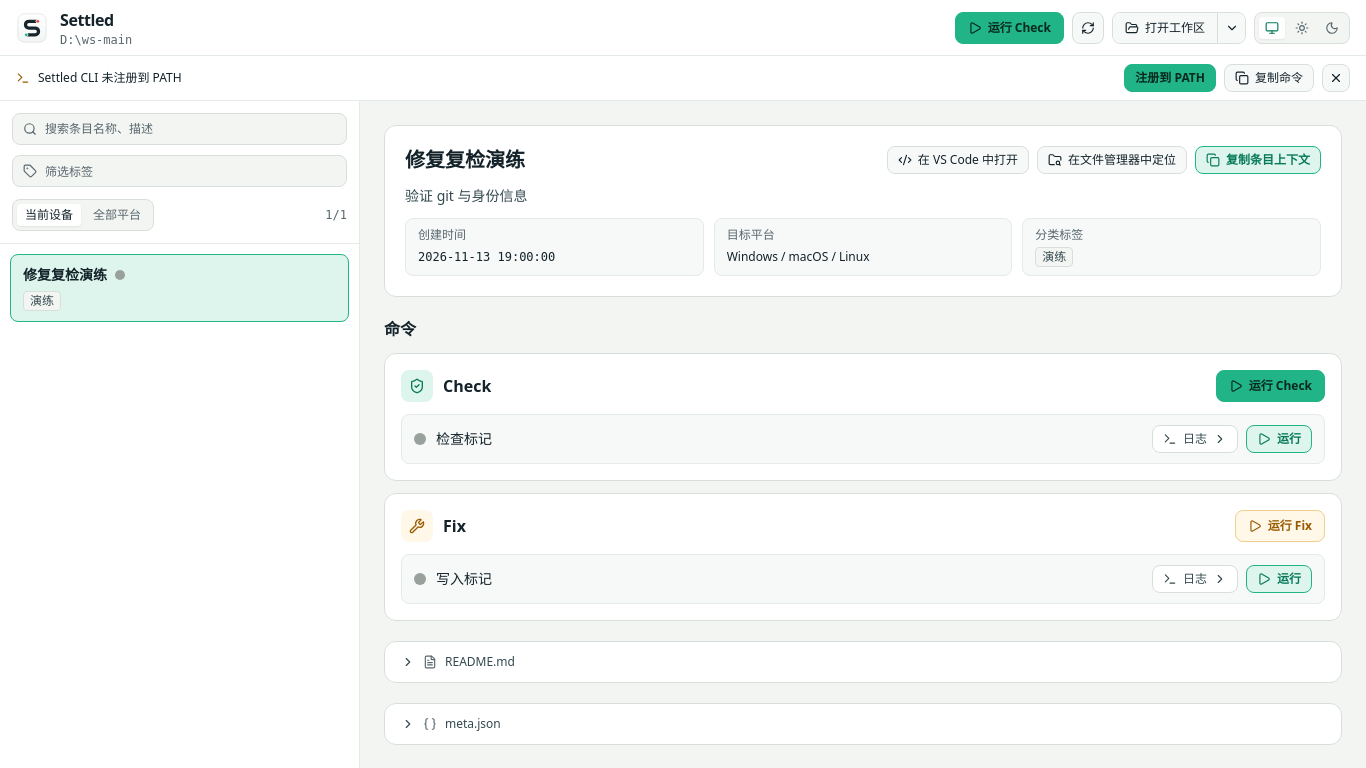
Test case: App integration › shows CLI registration banner only when needed, supports registering/copying/dismissing, and refreshes shared recent workspaces
expect the text "Settled CLI 未注册到 PATH" is shown: met, box [38,70,182,86]
# Copy command writes the manual command to clipboard
Step 1. Click the button "复制命令" → click(1269, 78), box [1224,64,1314,92]
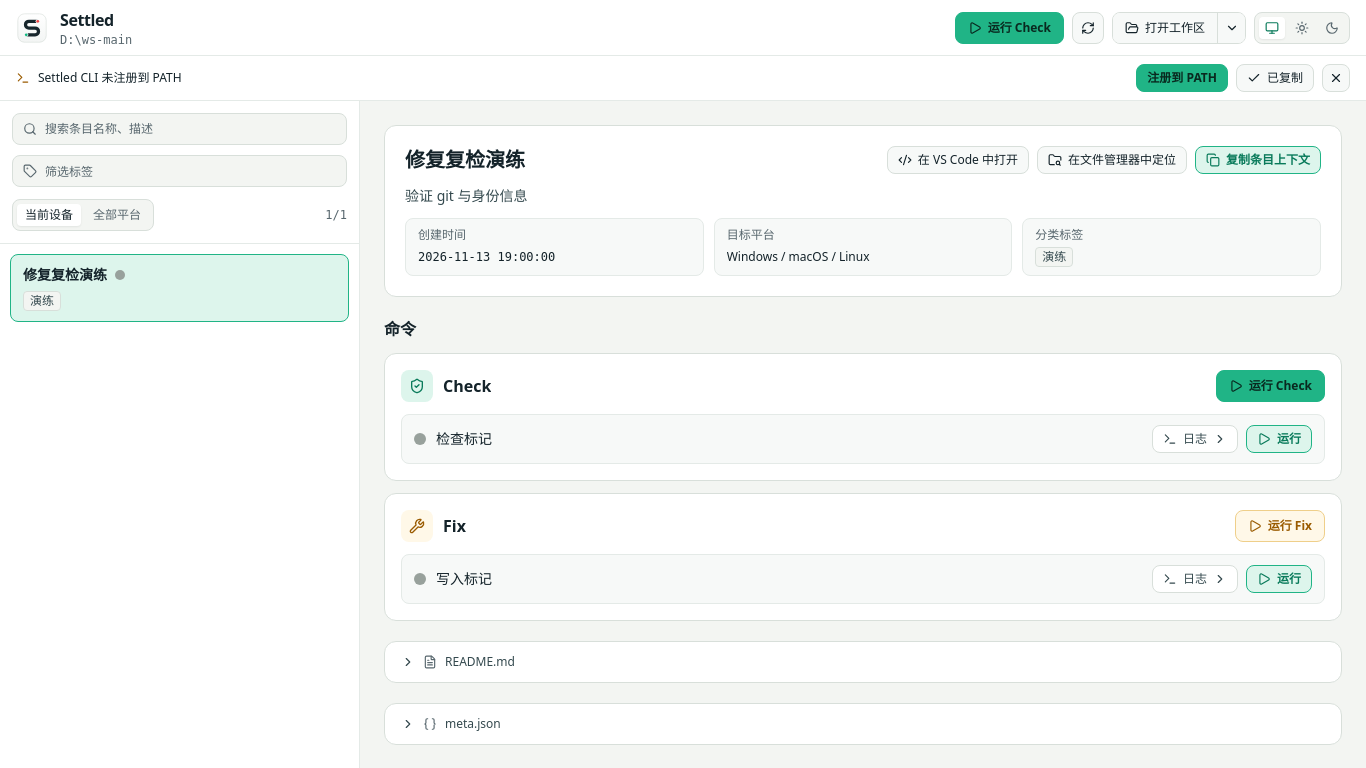
Step 2. Click the button "注册到 PATH" → click(1182, 78), box [1136,64,1228,92]
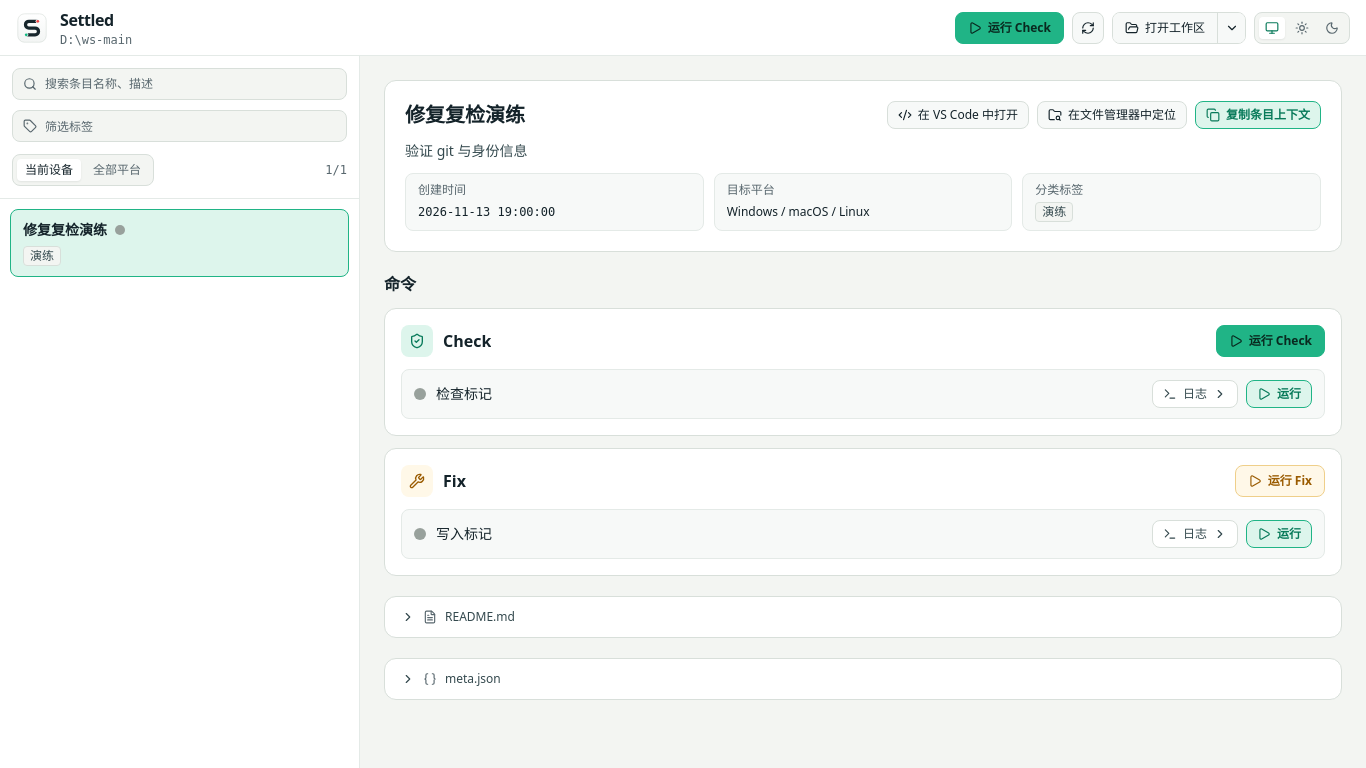
expect the text "Settled CLI 未注册到 PATH" is gone: met
Step 3. Click the button named "最近打开的工作区" → click(1231, 28), box [1217,12,1245,42]
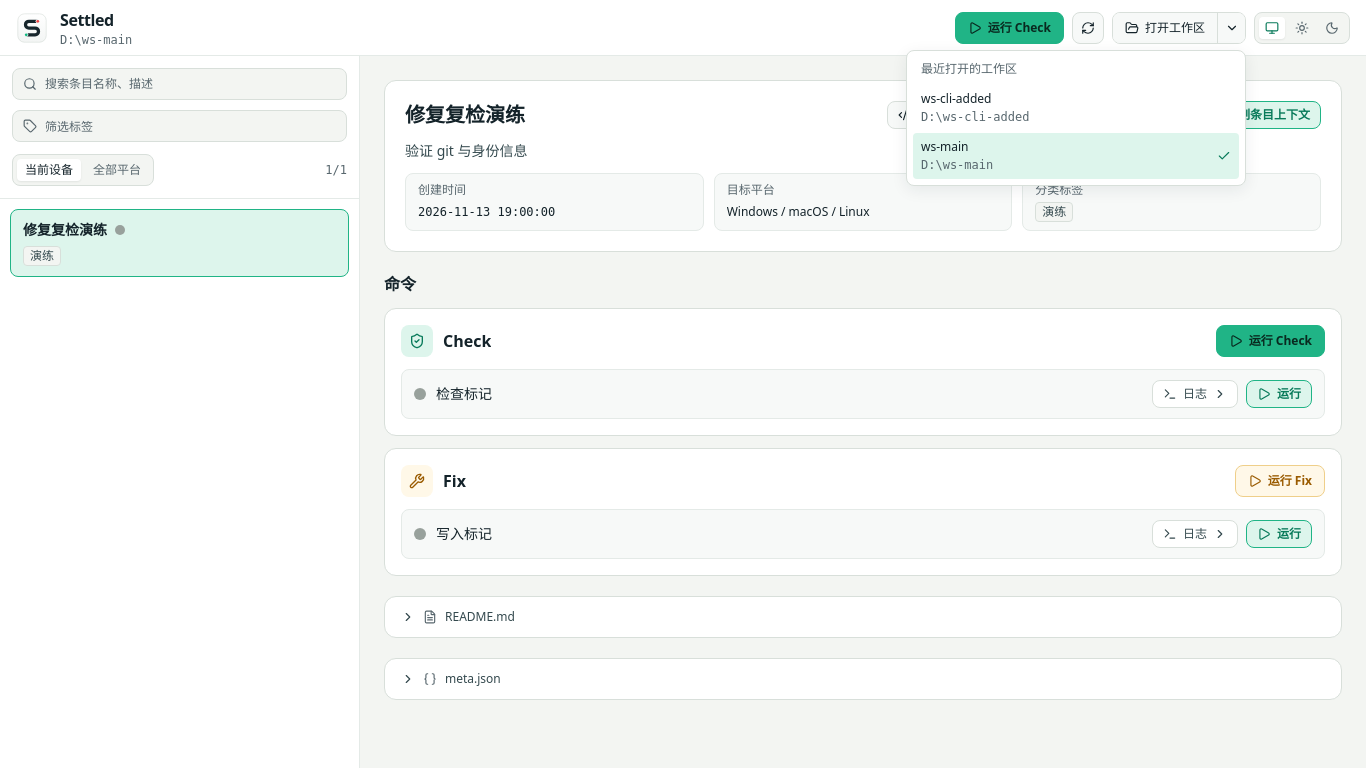
expect the menu item titled "D:\\ws-cli-added" is shown: met, box [913,84,1239,130]
